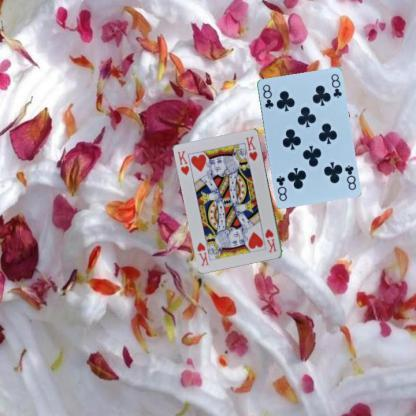8c: (342, 162, 357, 192), (260, 82, 274, 110)
Kh: (175, 148, 191, 177), (262, 226, 278, 254)
